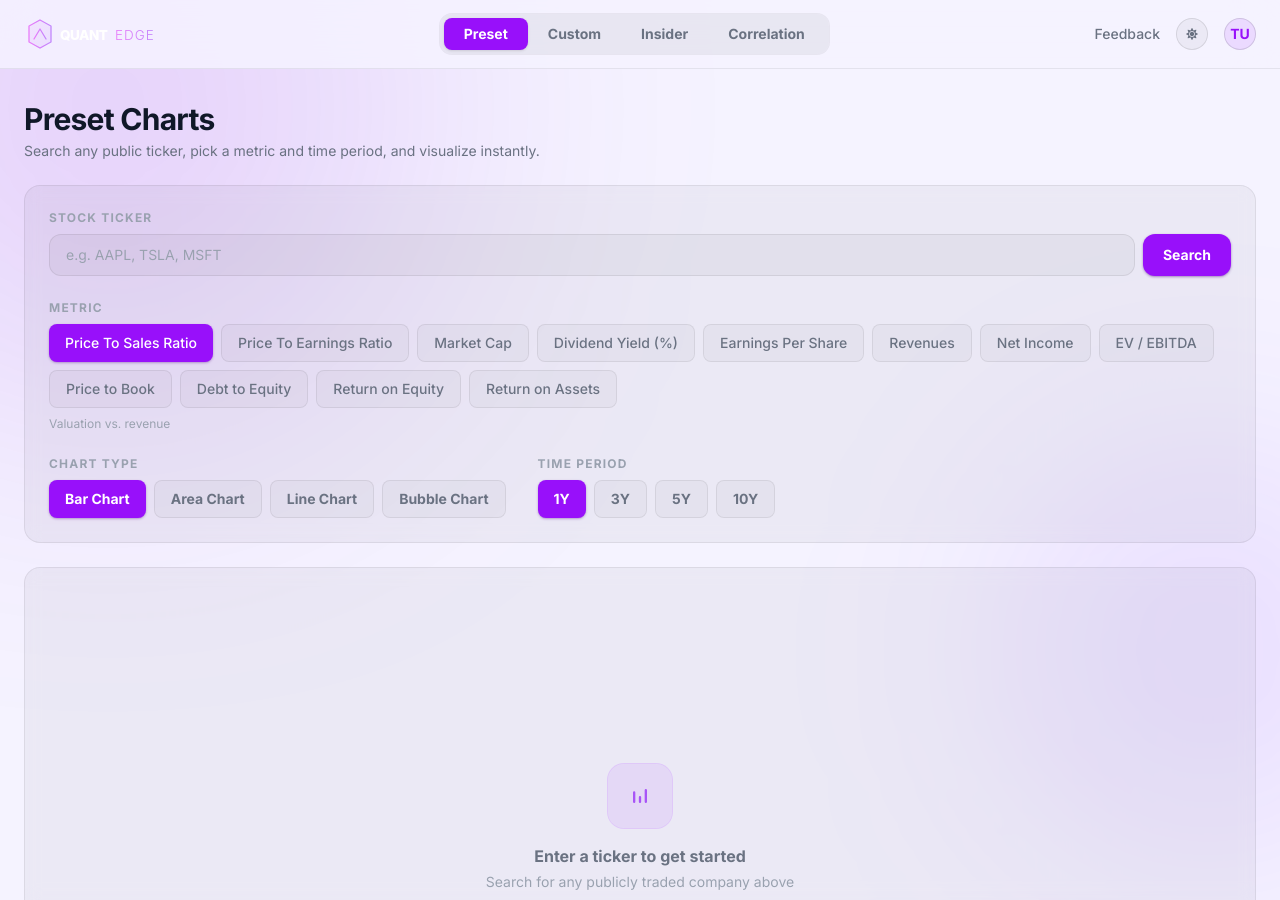
PresetChartsPage — ticker search › uppercases the ticker on search
The width and height of the screenshot is (1280, 900).
Type "aapl" into the field with placeholder "e.g. AAPL, TSLA, MSFT" at (592, 255), box x1=49 y1=234 x2=1135 y2=276
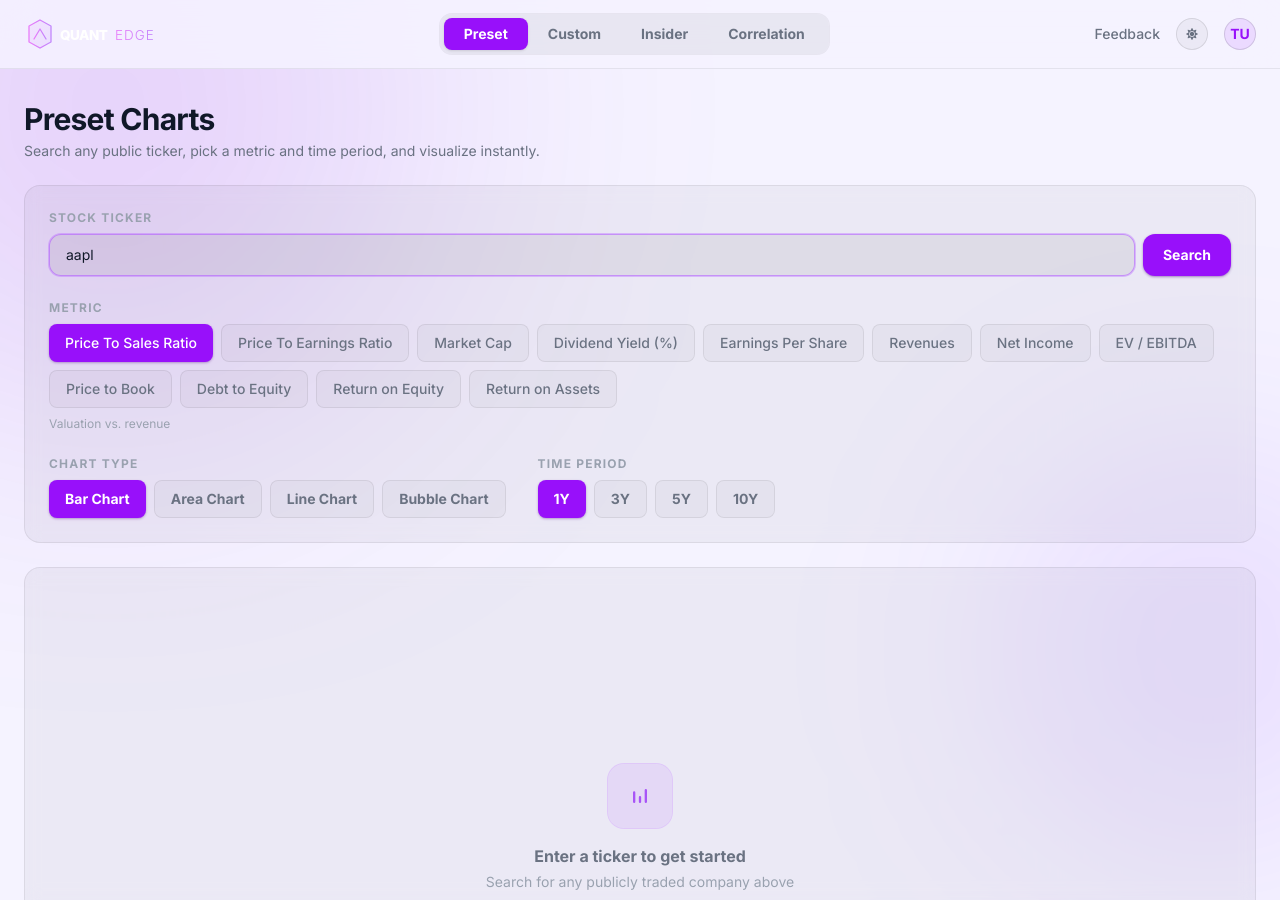
Click the button "Search" at (1187, 255), box x1=1143 y1=234 x2=1231 y2=276
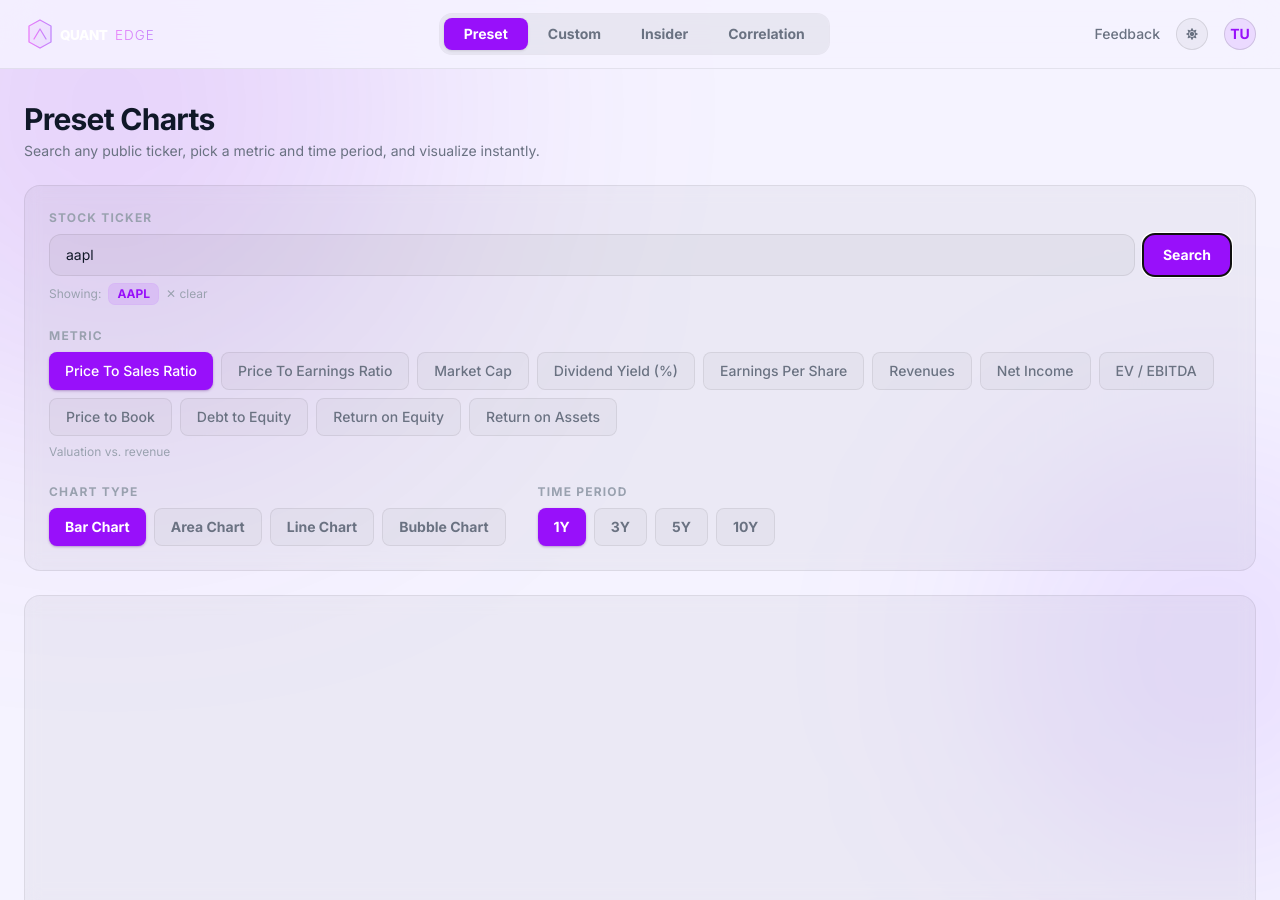
Expected: the text "AAPL" is shown, x1=109 y1=284 x2=158 y2=304
